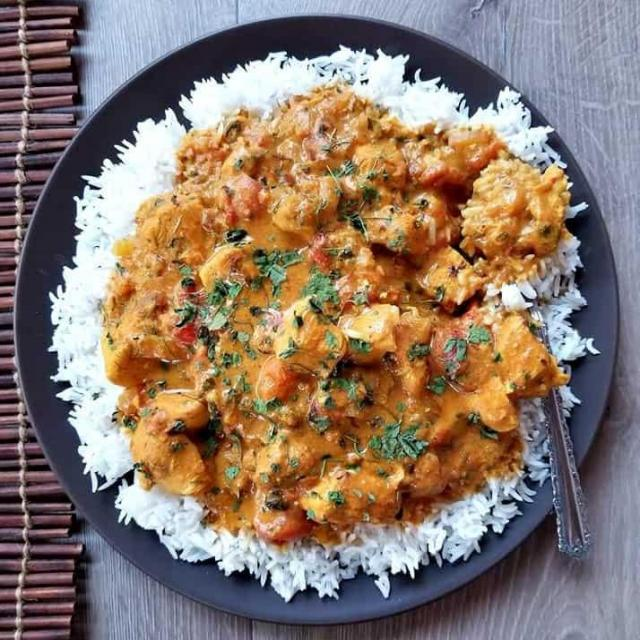chicken: (172, 150, 513, 484)
rice: (50, 92, 271, 561)
